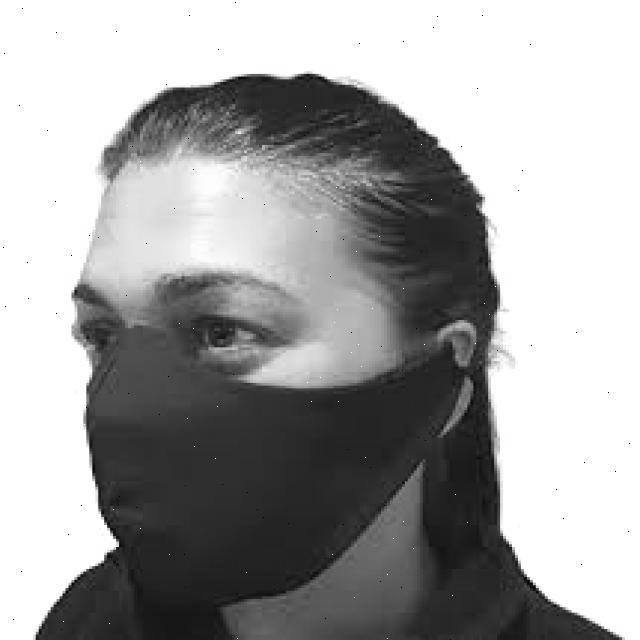fake: (32, 321, 482, 623)
real: (68, 165, 415, 608)
